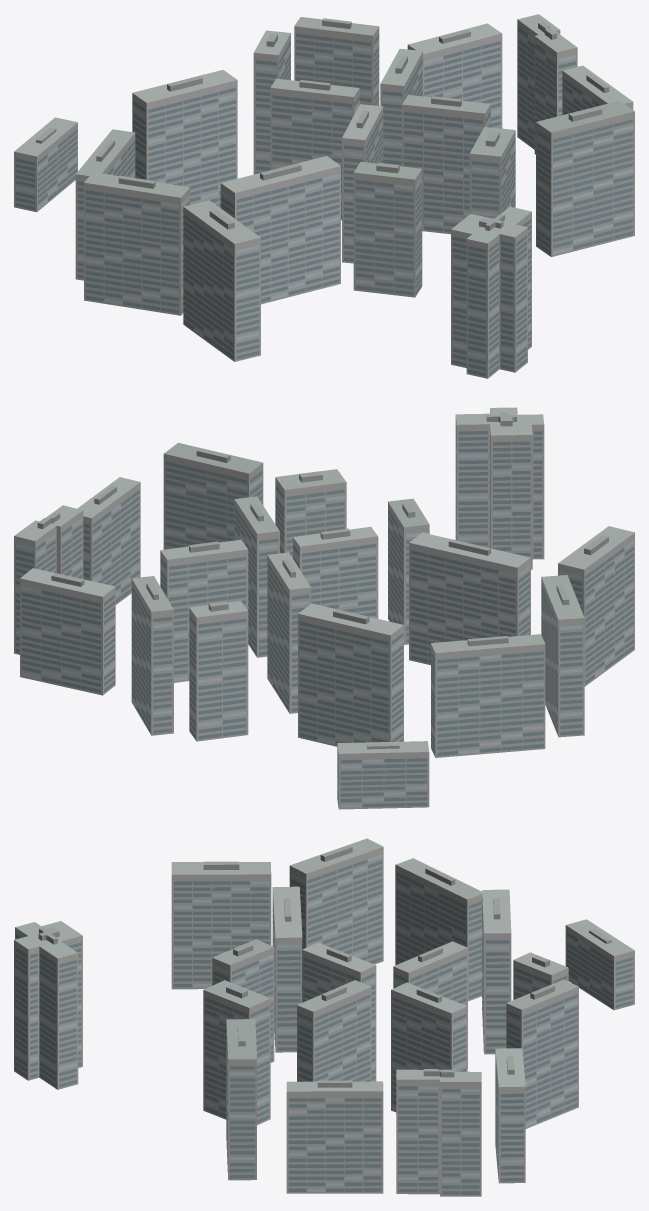
File: apt-a13686302.glb
The picture shows the model from 3 angles, top to bottom: view 1: azimuth 30°, elevation 25°; view 2: azimuth 150°, elevation 25°; view 3: azimuth 270°, elevation 25°; orthographic projection. The views are drawn at different scales.
Parts seen in each view (by area): view 1: apt-a13686302; view 2: apt-a13686302; view 3: apt-a13686302.
Part boxes in pixels (x1,y1,x2,y2): apt-a13686302: [14, 14, 634, 378]; apt-a13686302: [14, 407, 634, 809]; apt-a13686302: [14, 838, 634, 1196].
Size of the model in its own units: 249 by 65 by 268.
